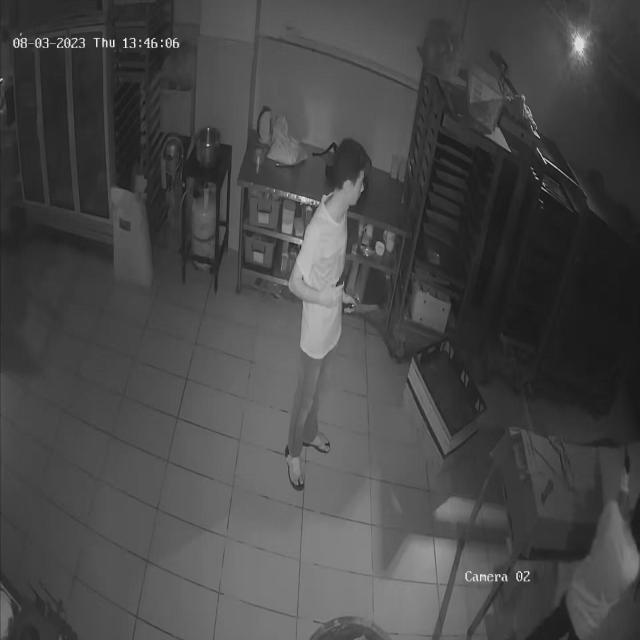Knife: (333, 294, 387, 324)
